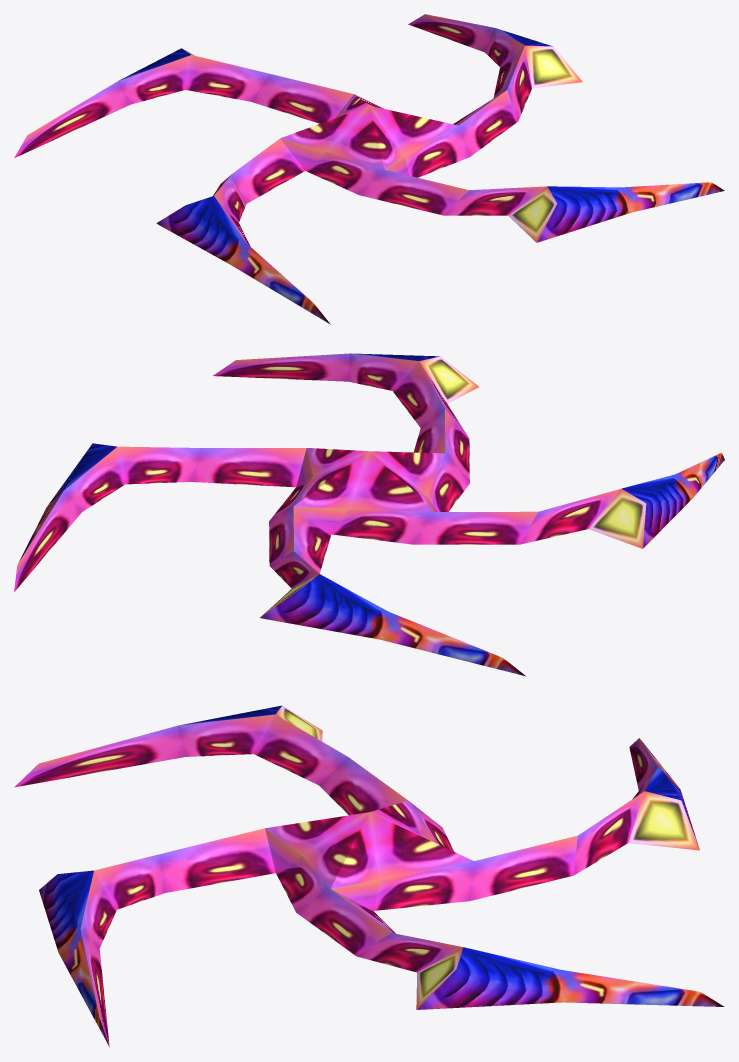
File: ufo-12.fbx
3 views of the same model, one above another, from view 1: azimuth 30°, elevation 25°; view 2: azimuth 150°, elevation 25°; view 3: azimuth 270°, elevation 25° (orthographic). The views are drawn at different scales.
Visible parts, largest first — view 1: ufo-12; view 2: ufo-12; view 3: ufo-12.
Part boxes in pixels (x1,y1,x2,y2): ufo-12: (14,14,724,324); ufo-12: (14,353,724,676); ufo-12: (14,705,724,1046).
Size of the model in its own units: 96.28 by 12.71 by 96.28.
